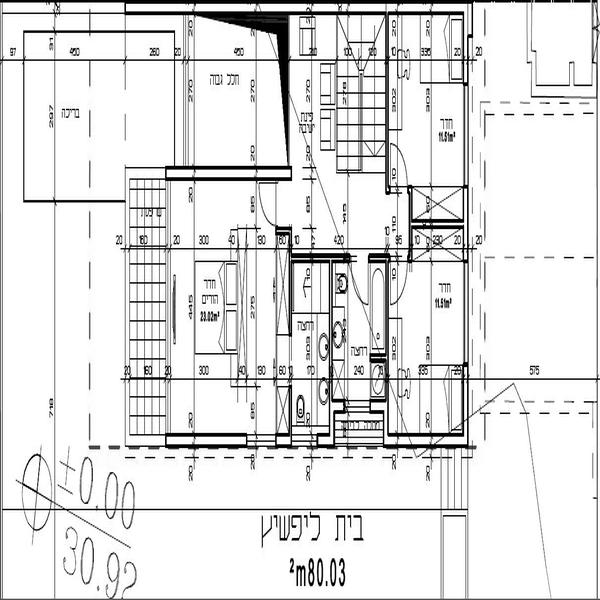door: (253, 177, 300, 225), (380, 144, 413, 183), (347, 263, 372, 314), (388, 257, 409, 308)
room: (153, 156, 290, 450), (377, 237, 475, 454), (287, 253, 394, 447)
wall: (166, 154, 296, 185), (387, 428, 470, 451), (166, 432, 251, 448)
